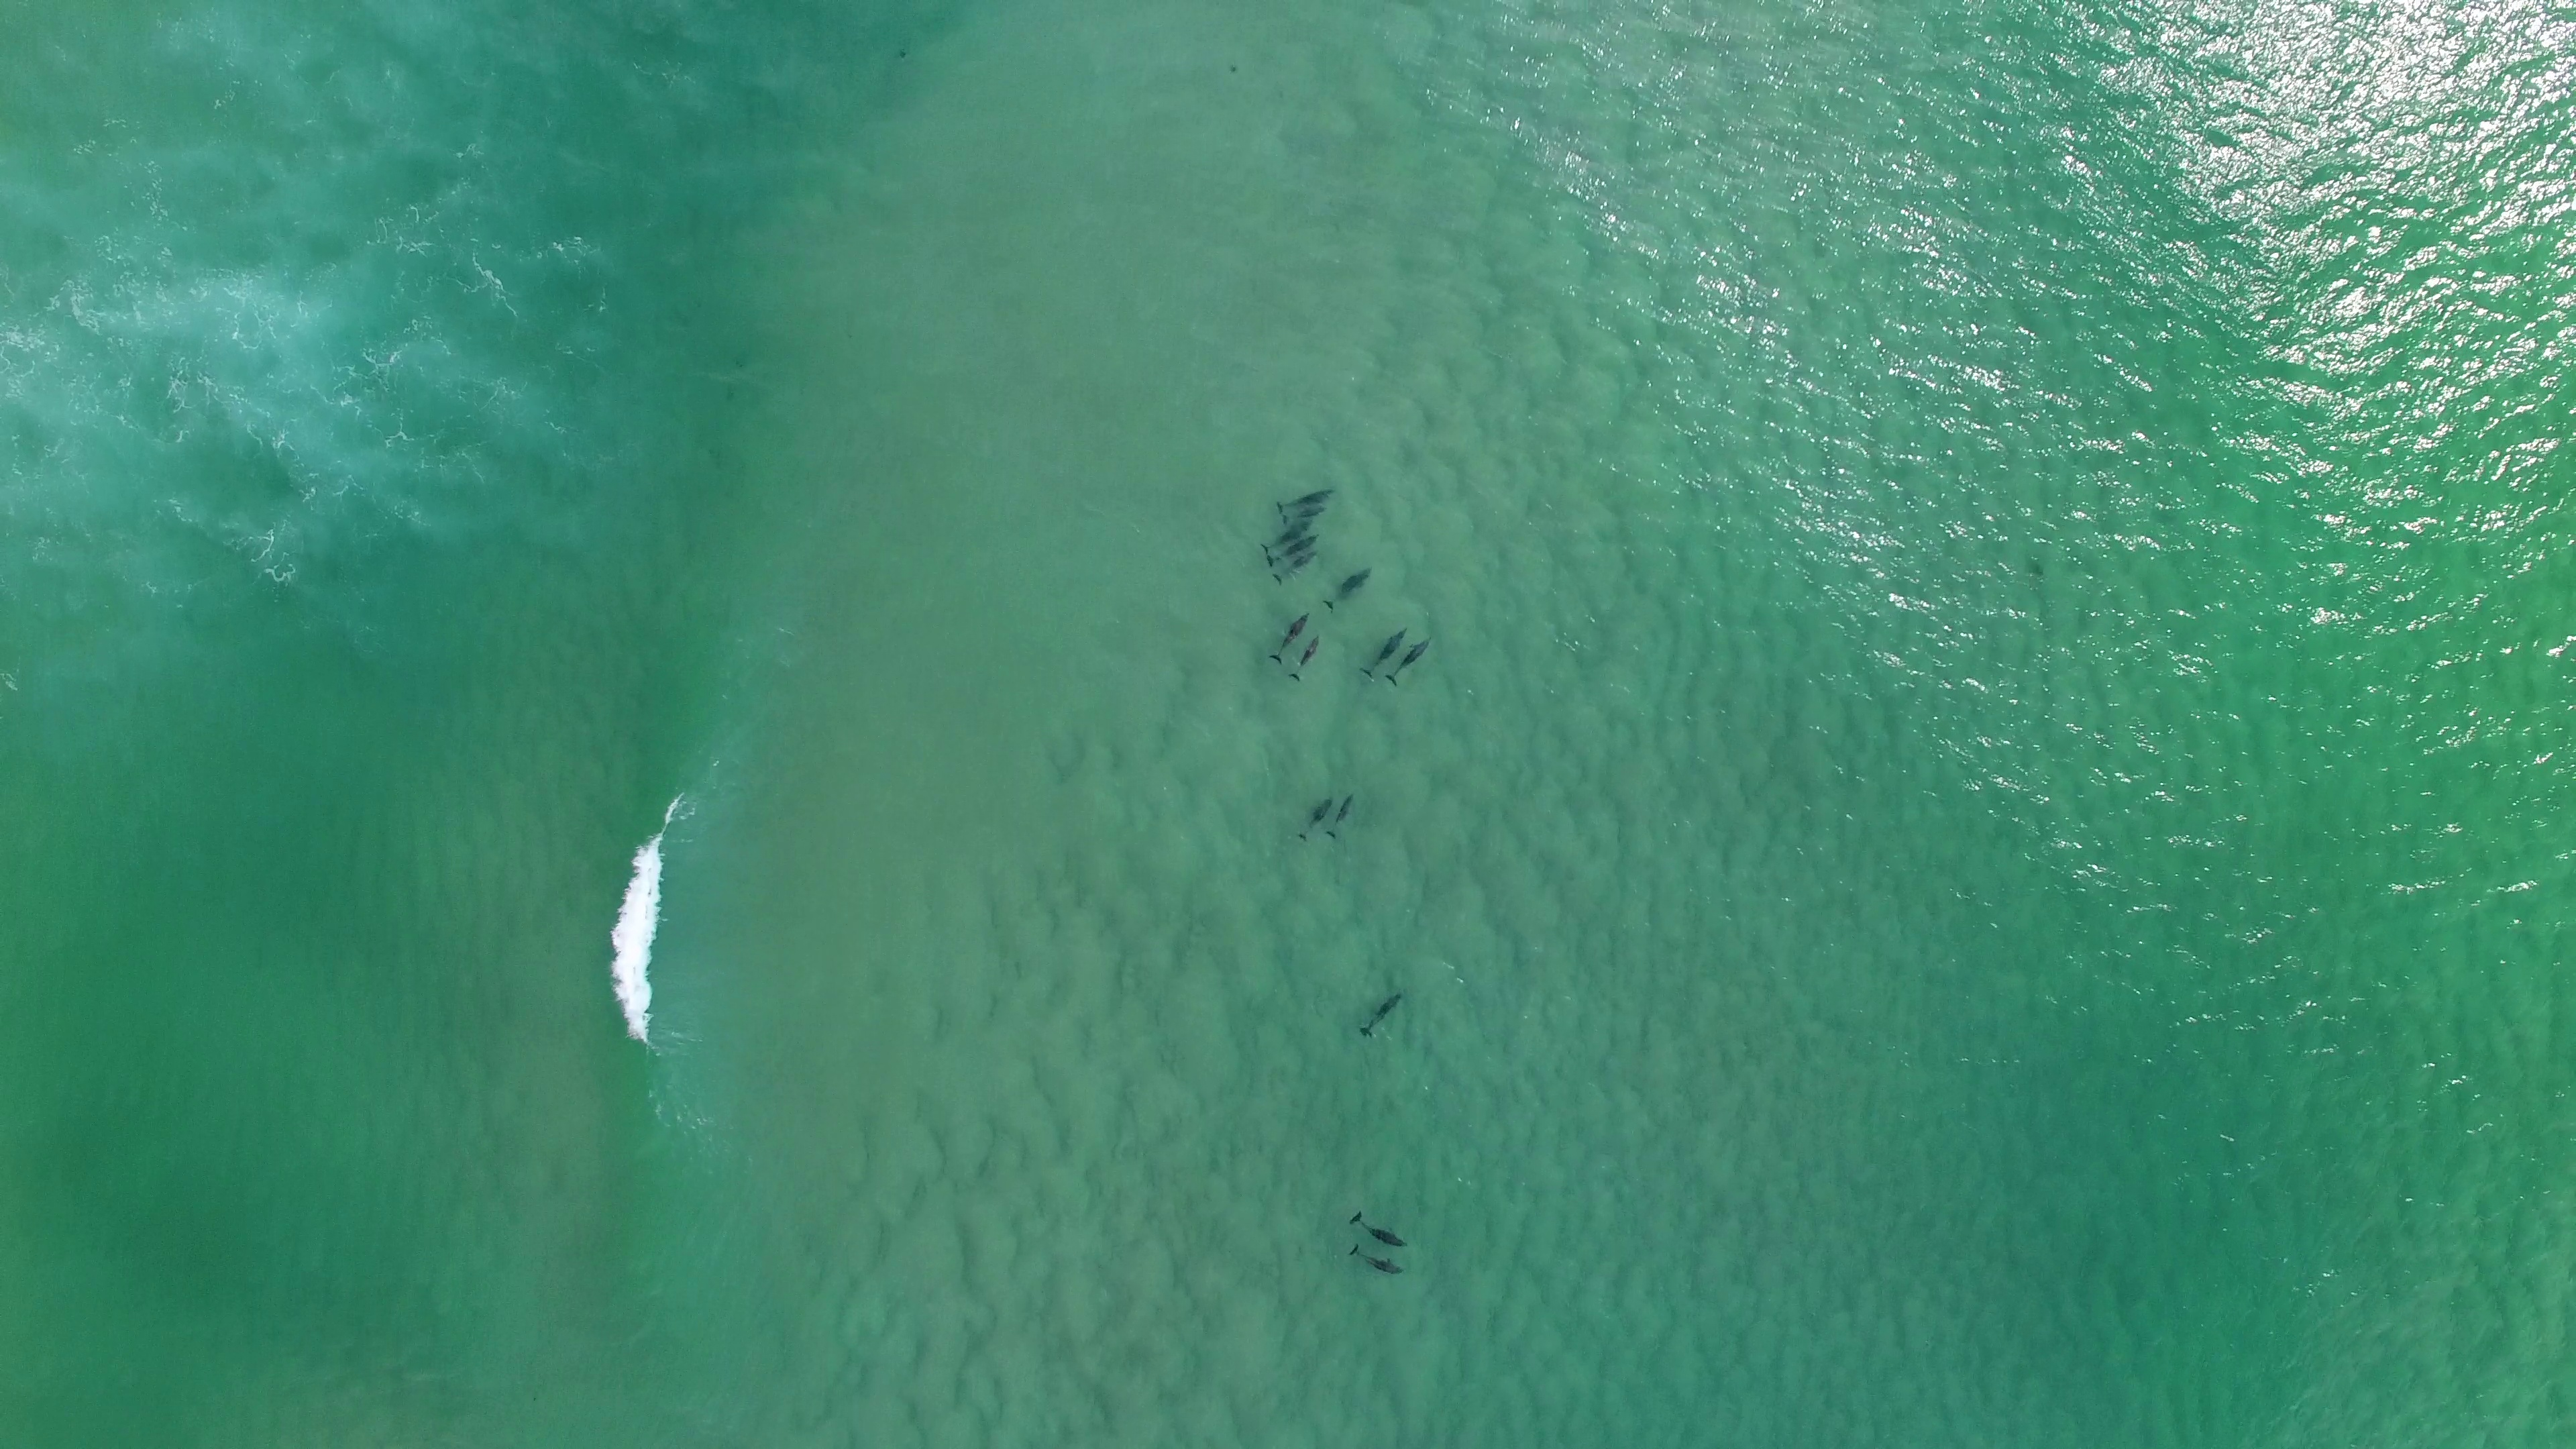dolphin: (1361, 625, 1414, 685), (1387, 630, 1437, 692), (1323, 561, 1375, 616), (1359, 985, 1408, 1040), (1350, 1207, 1410, 1251), (1270, 607, 1313, 669), (1293, 791, 1336, 849), (1346, 1246, 1412, 1281), (1272, 543, 1323, 587), (1276, 481, 1338, 513), (1261, 518, 1316, 554), (1265, 533, 1322, 566), (1290, 630, 1323, 686), (1327, 787, 1361, 842), (1277, 502, 1330, 525)
